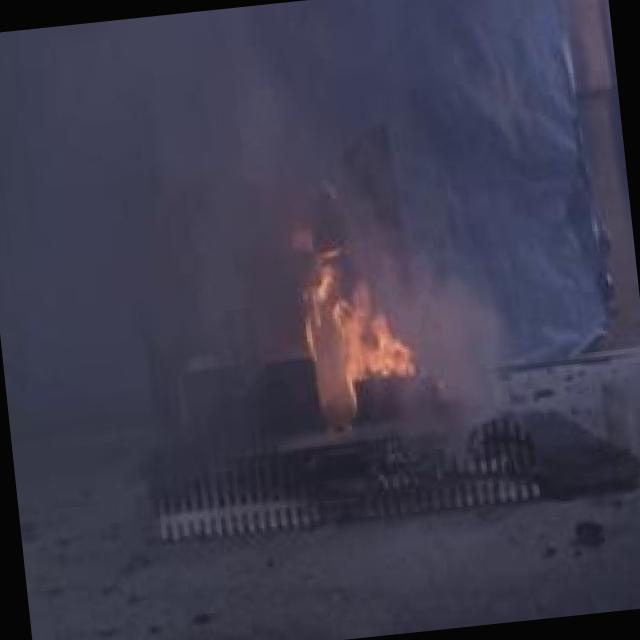fire: (288, 224, 423, 400)
